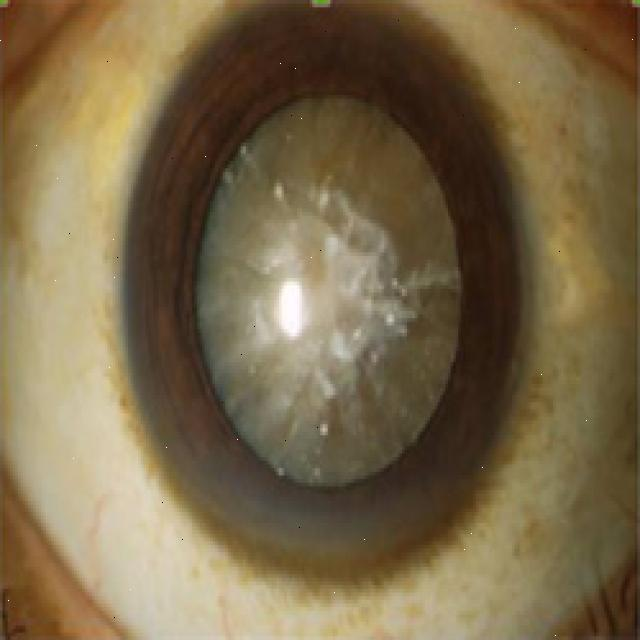Cataract: (119, 0, 526, 586)
